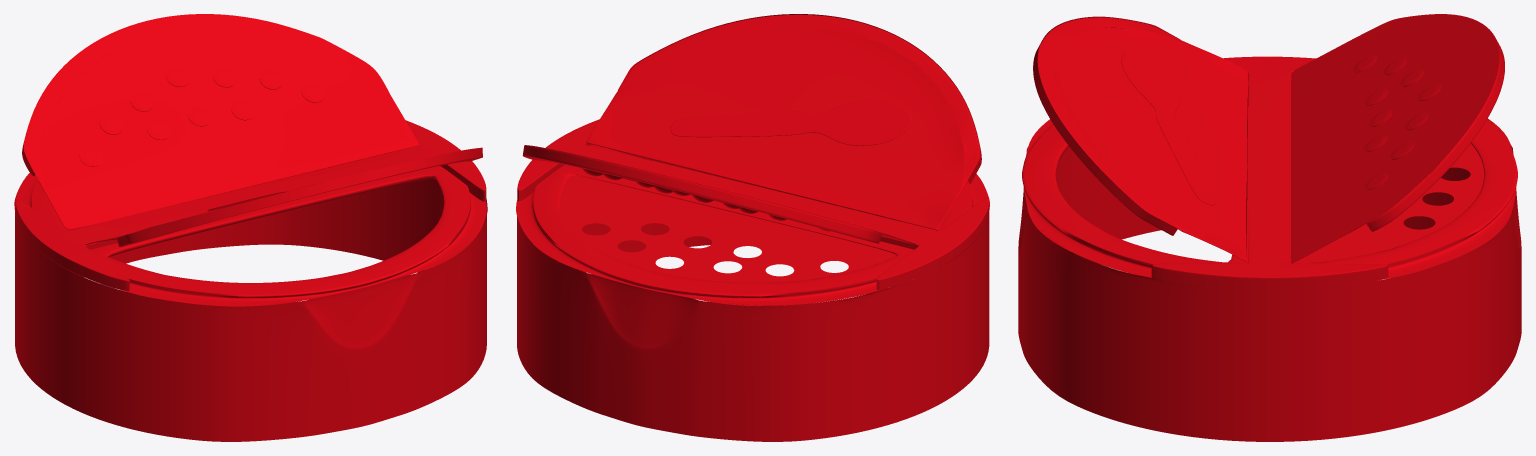
Rendered from Cap4.glb.
3 views of the same model, side by side, from view 1: azimuth 30°, elevation 25°; view 2: azimuth 150°, elevation 25°; view 3: azimuth 270°, elevation 25° (orthographic). The views are drawn at different scales.
Visible parts, largest first — view 1: Circle.002, Circle.011, bottom, Circle.006, Circle.003, Circle.012; view 2: Circle.002, Circle.001, Circle.007, bottom, Circle.006, Circle.005, Circle.003, Circle.012, Circle.011; view 3: Circle.002, Circle.001, Circle.011, bottom, Circle.006, Circle.007, Circle.012, Circle.003, Circle.005.
Part boxes in pixels (x1,y1,x2,y2): Circle.002: (14, 174, 487, 441); Circle.011: (23, 14, 419, 229); bottom: (15, 166, 486, 306); Circle.006: (15, 120, 486, 290); Circle.003: (117, 147, 482, 247); Circle.012: (79, 67, 324, 166); Circle.002: (517, 150, 989, 441); Circle.001: (586, 14, 979, 230); Circle.007: (560, 175, 896, 282); bottom: (516, 144, 989, 306); Circle.006: (517, 119, 989, 289); Circle.005: (522, 145, 882, 243); Circle.003: (618, 14, 981, 183); Circle.012: (582, 168, 897, 240); Circle.011: (524, 145, 915, 244); Circle.002: (1018, 120, 1521, 441); Circle.001: (1038, 17, 1248, 261); Circle.011: (1291, 14, 1499, 263); bottom: (1022, 107, 1517, 278); Circle.006: (1151, 56, 1388, 290); Circle.007: (1307, 143, 1484, 262); Circle.012: (1353, 55, 1441, 189); Circle.003: (1033, 16, 1180, 235); Circle.005: (1366, 40, 1504, 231).
Bounding box in the file's own units: 0.0397 × 0.0229 × 0.0381.
